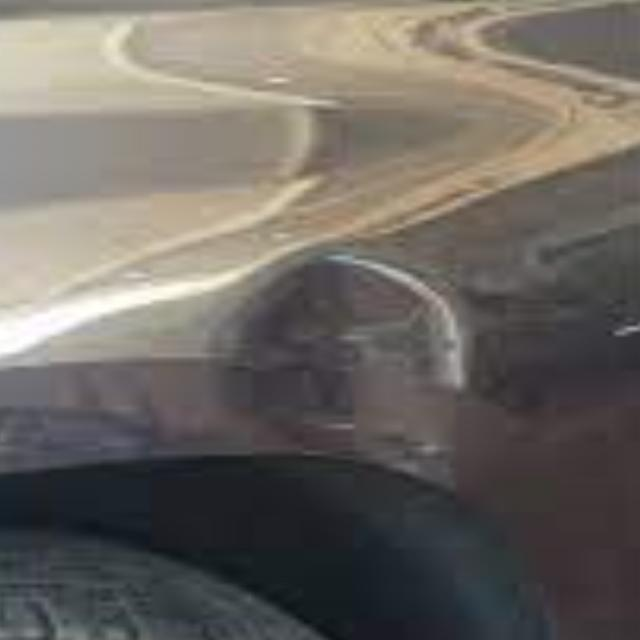dents: (237, 252, 471, 467)
